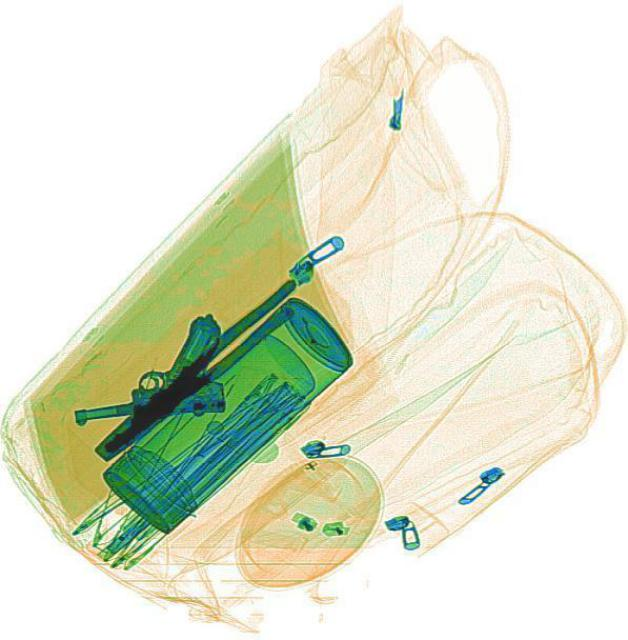Gun: (62, 312, 229, 428)
Pliers: (86, 274, 311, 466)
